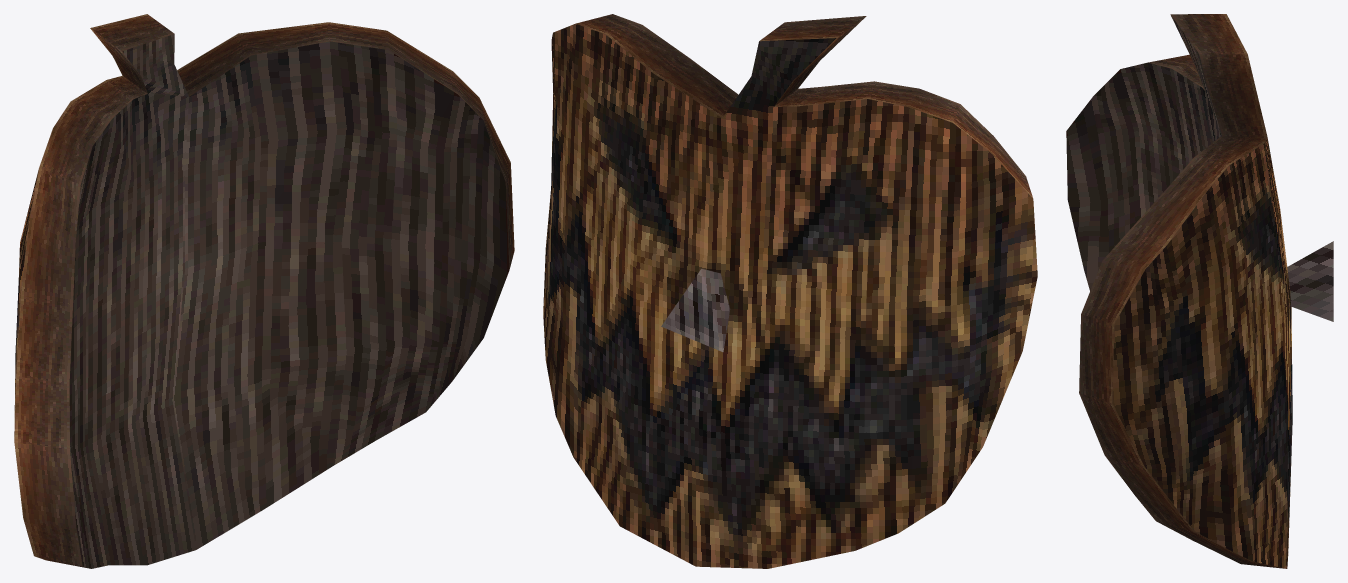
File: ps2_save-icons_timburtonsnightmarebeforechristmasoogiesrevenge.glb
3 renders of one model, left to right at view 1: azimuth 30°, elevation 25°; view 2: azimuth 150°, elevation 25°; view 3: azimuth 270°, elevation 25°, orthographic. The views are drawn at different scales.
Visible parts, largest first — view 1: icon00.ico; view 2: icon00.ico; view 3: icon00.ico.
Part boxes in pixels (<box>): icon00.ico: <box>14,14,514,568</box>; icon00.ico: <box>543,14,1037,568</box>; icon00.ico: <box>1066,14,1333,568</box>.
Size of the model in its own units: 3.37 by 3.56 by 1.75.
Materials: 1 (1 with a texture image).
